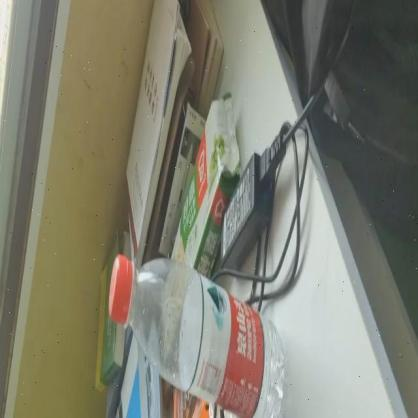bottle: (109, 256, 286, 418)
cap: (106, 255, 140, 328)
label: (188, 285, 262, 406)
